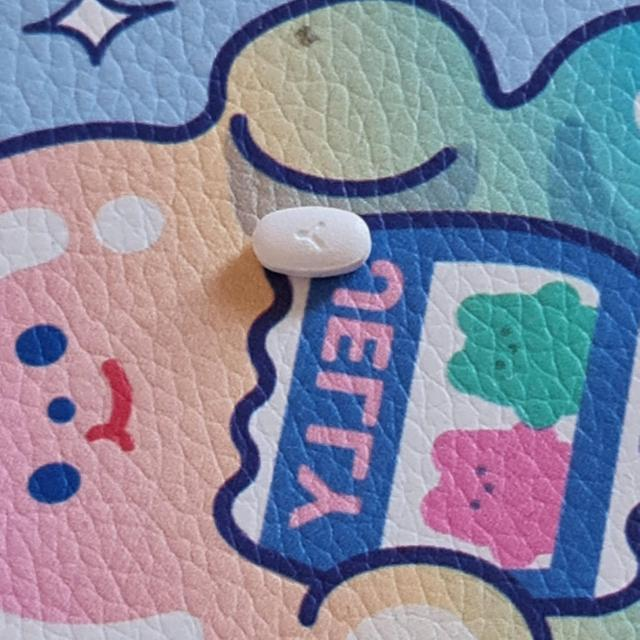pill: (252, 207, 368, 277)
